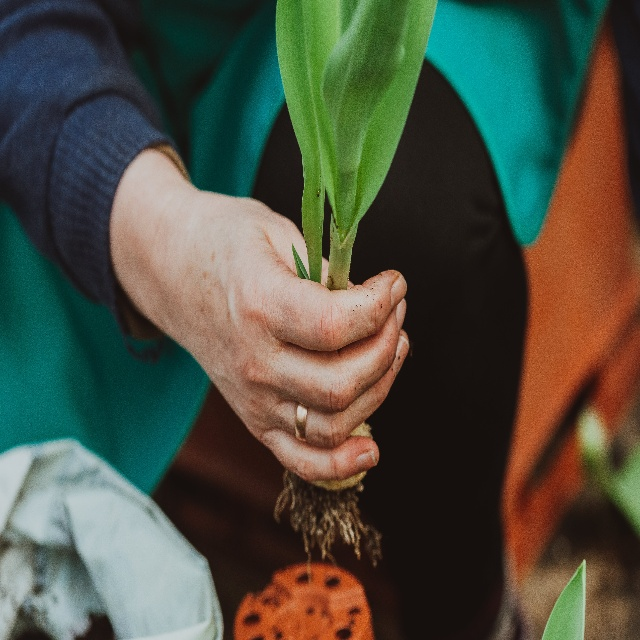Sin_guantes: (187, 176, 410, 481)
